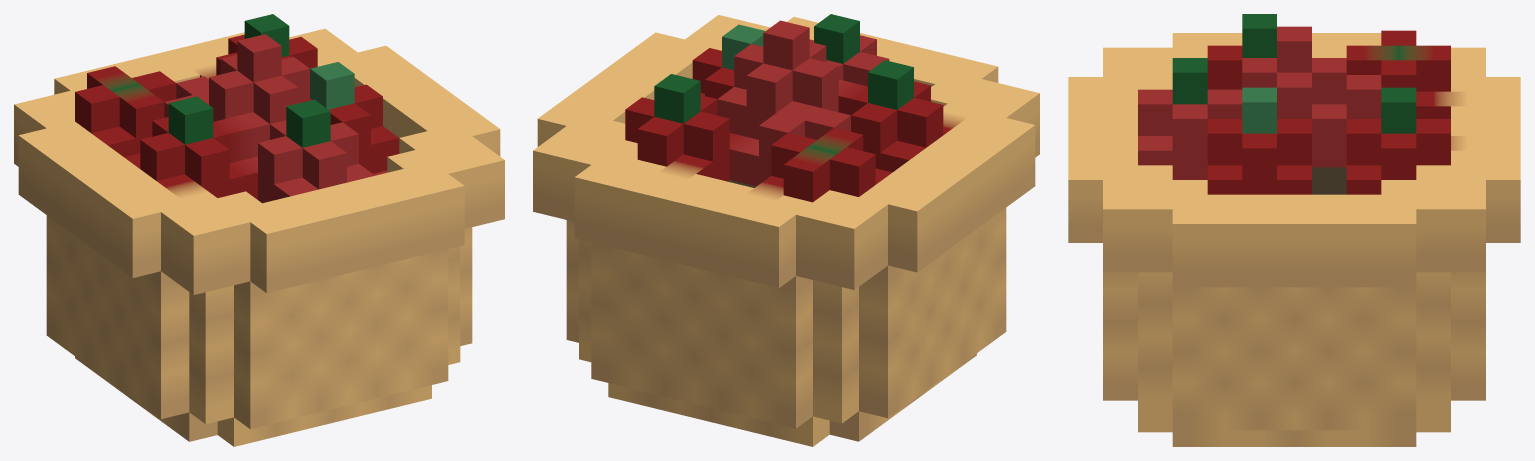
File: FoodSack_Tomatoes_00.fbx
3 renders of one model, left to right at view 1: azimuth 30°, elevation 25°; view 2: azimuth 150°, elevation 25°; view 3: azimuth 270°, elevation 25°, orthographic. The views are drawn at different scales.
Parts seen in each view (by area): view 1: FoodSack_Tomatoes_00; view 2: FoodSack_Tomatoes_00; view 3: FoodSack_Tomatoes_00.
Boxes of the visible parts, left/top/right/bottom form: FoodSack_Tomatoes_00: left=14, top=14, right=504, bottom=446; FoodSack_Tomatoes_00: left=533, top=14, right=1039, bottom=446; FoodSack_Tomatoes_00: left=1068, top=14, right=1520, bottom=446.
Bounding box in the file's own units: 65 × 55 × 65.
